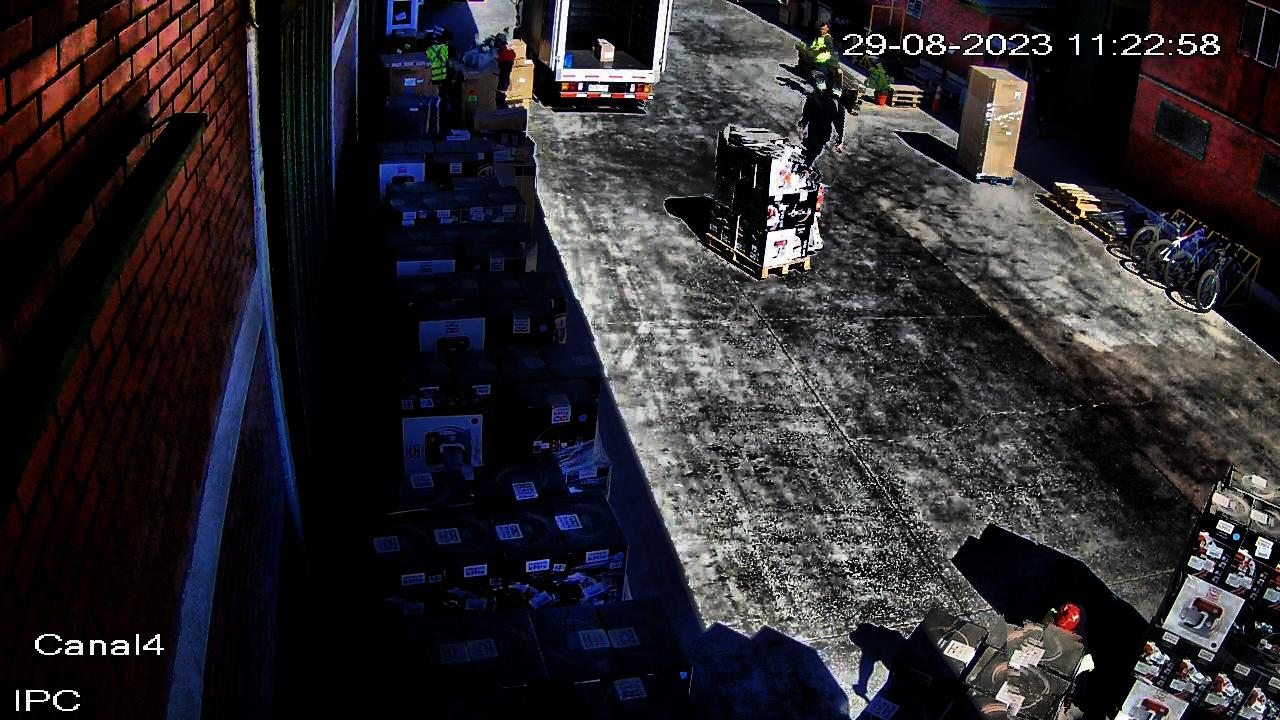con-casco: (488, 30, 514, 50), (813, 75, 832, 96)
con-chaleco: (1027, 609, 1101, 695), (425, 41, 461, 85), (807, 32, 838, 69)
persona: (1007, 591, 1117, 720), (785, 74, 858, 184), (421, 25, 465, 136), (480, 28, 523, 129), (802, 21, 839, 106)
sin-casco: (1044, 603, 1105, 647), (431, 25, 458, 46), (817, 24, 833, 36)
sin-chaleco: (803, 92, 839, 137), (487, 45, 518, 92)
